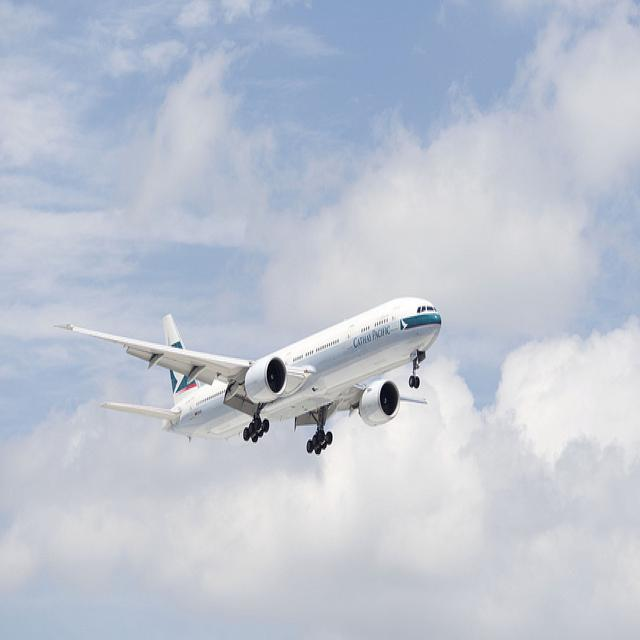airplane: (51, 294, 444, 458)
